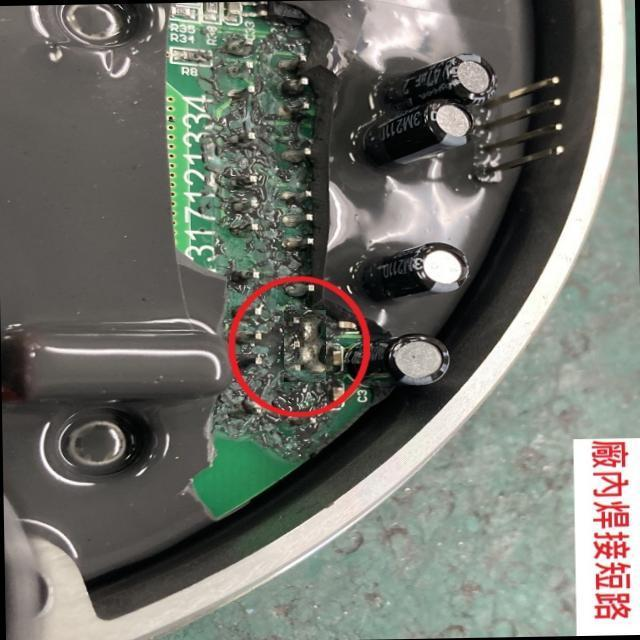damged: (284, 310, 326, 382)
